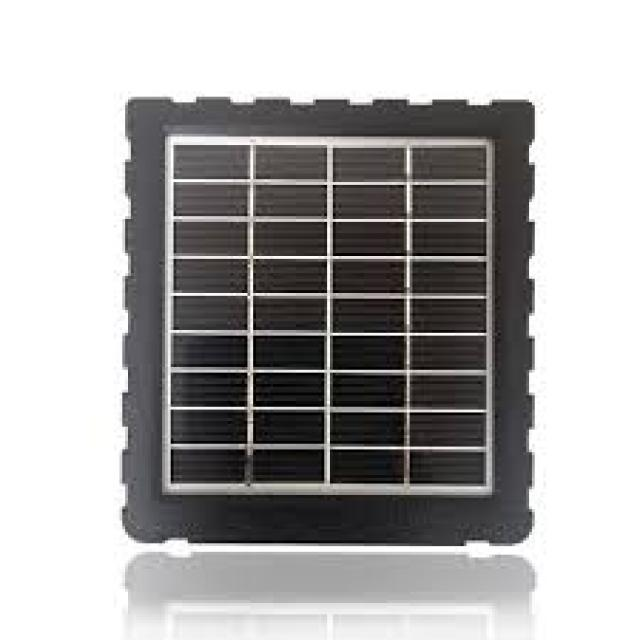no faulty: (165, 132, 502, 498)
